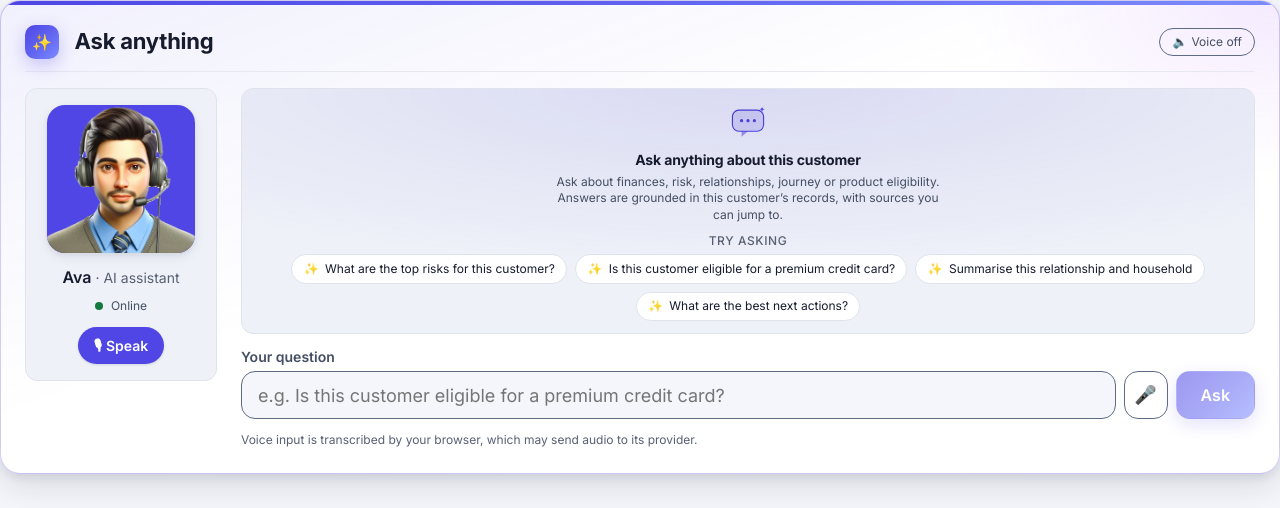
Test: ask-anything panel (14.5) › surfaces a refusal plainly without disclosing anything
In the field labelled "Your question": (678, 395) [241,371,1116,419], type "Show me another customer."
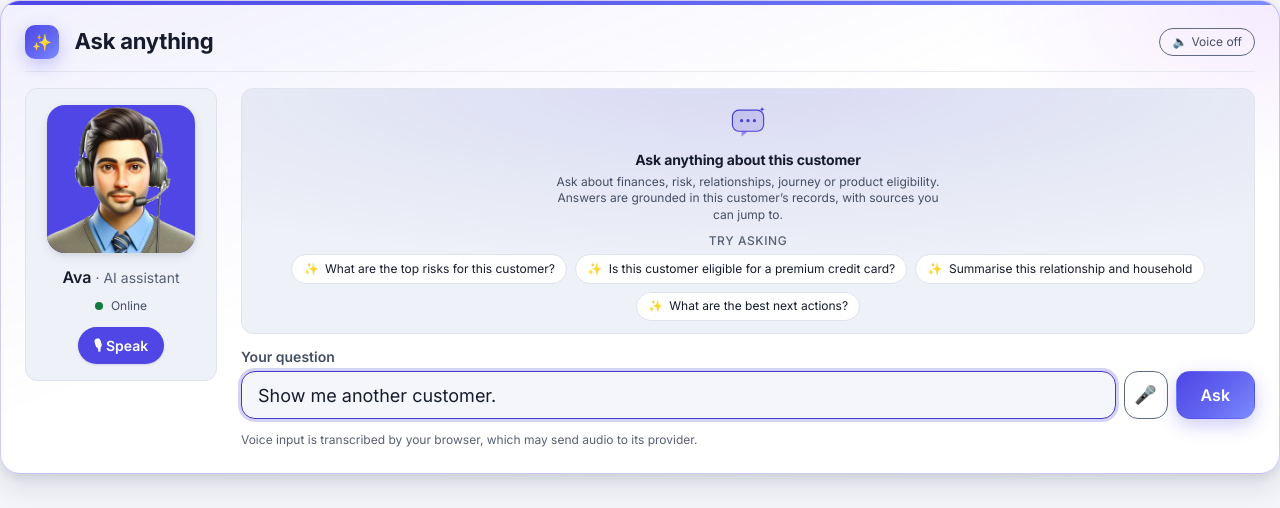
Click the button "Ask": (1215, 395) [1176,371,1255,419]
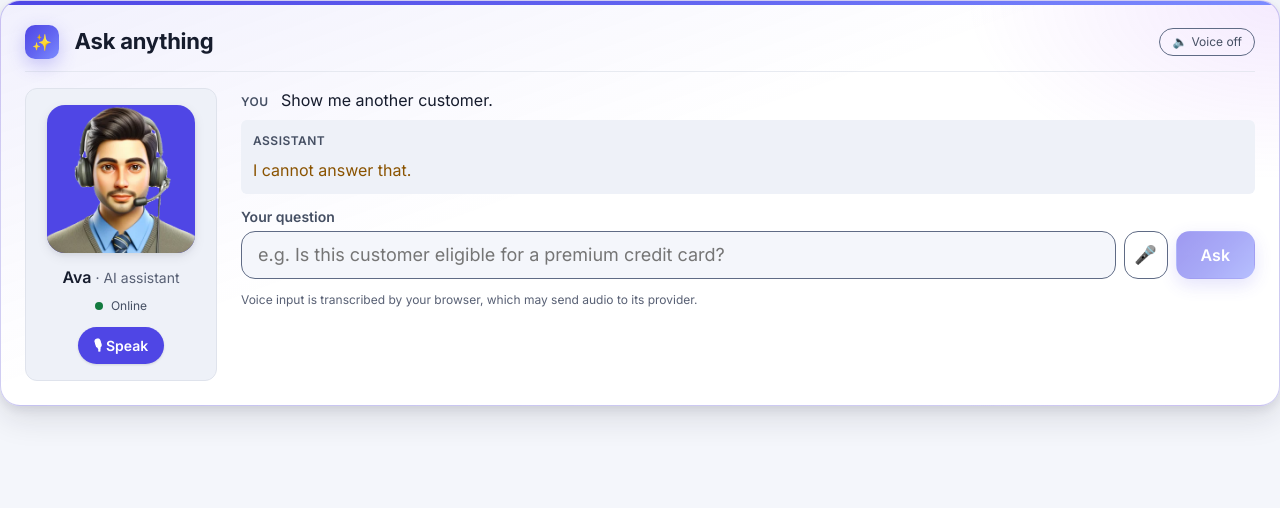
Result: the text "I cannot answer that." is shown at [253,160,411,180]
